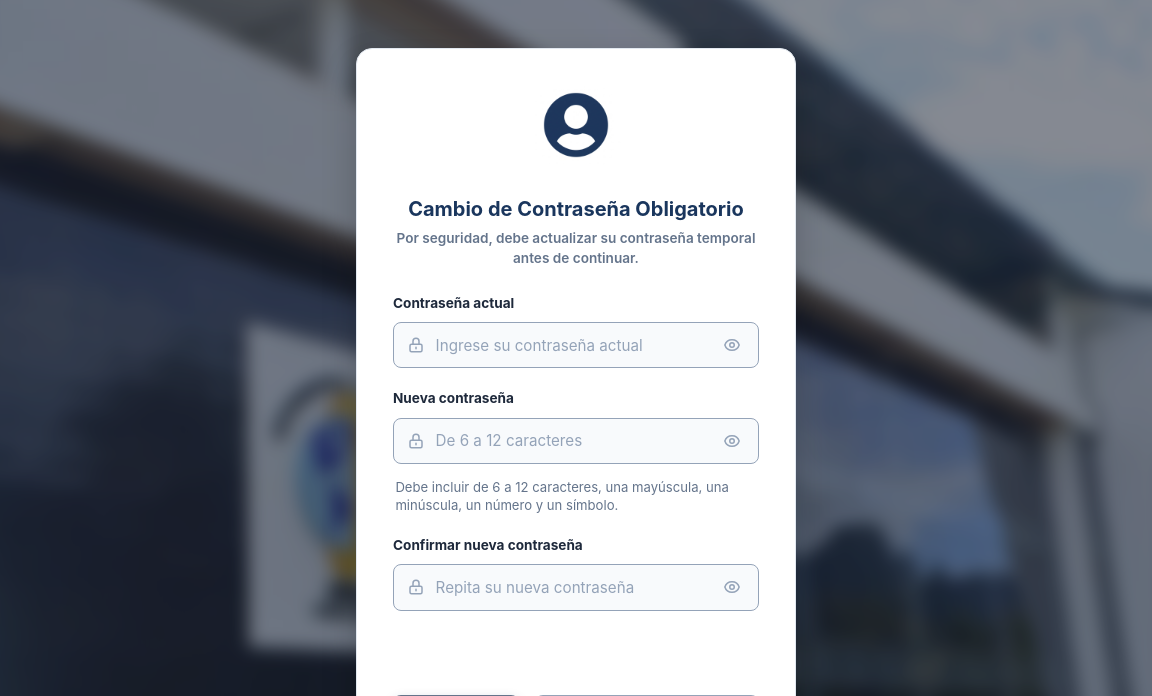
Test: ChangePasswordPage › muestra error de validacion si la nueva contraseña no cumple reglas
Type "Old123!" into the password field labelled "Contraseña actual" at (576, 345), box [393, 322, 759, 368]
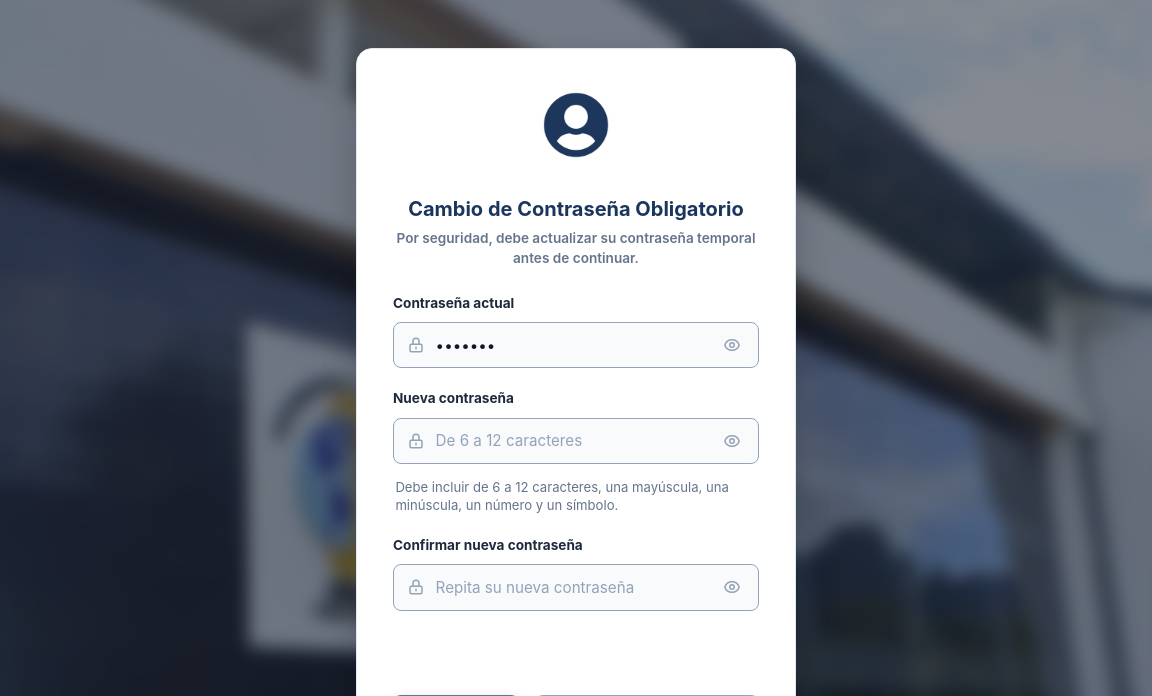
Type "New12345" into the password field labelled "Nueva contraseña" at (576, 441), box [393, 418, 759, 464]
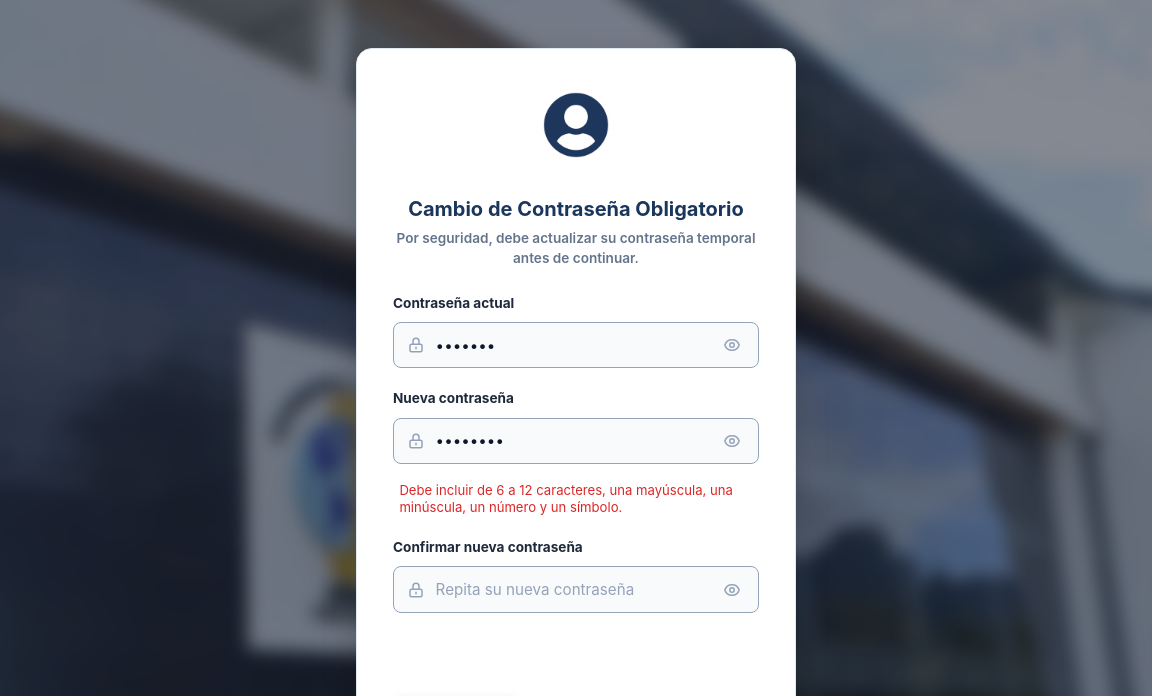
Type "New12345" into the password field labelled "Confirmar nueva contraseña" at (576, 590), box [393, 566, 759, 613]
(page scrolled)
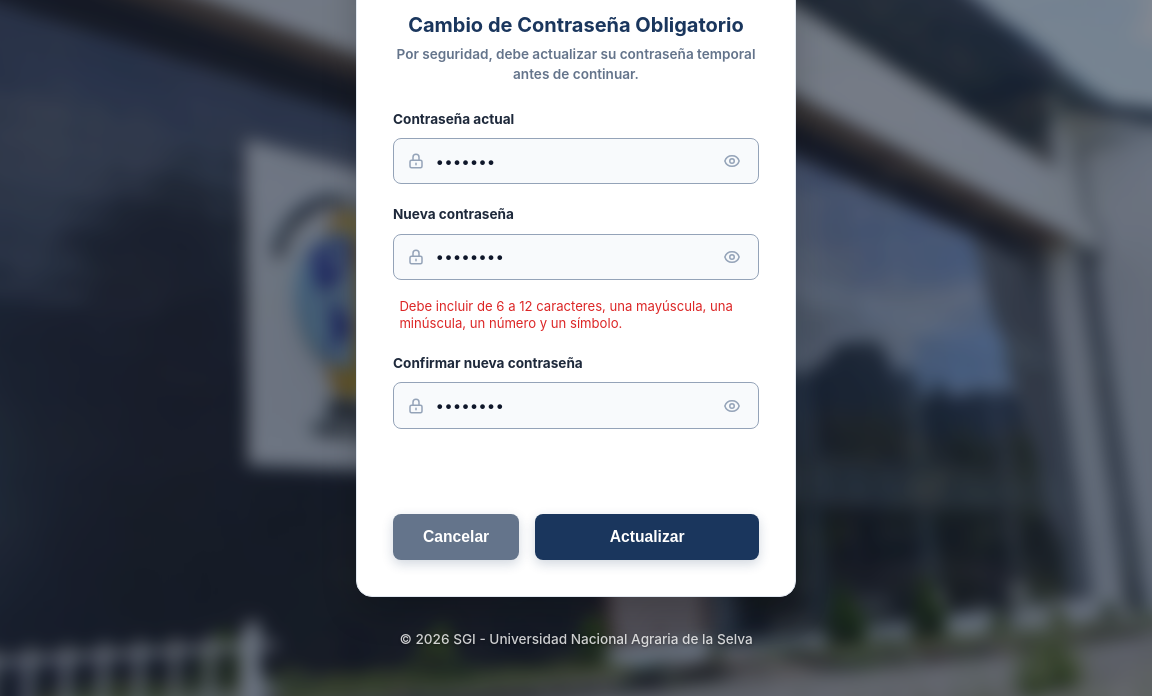
Click the submit button at (647, 537), box [535, 514, 759, 560]
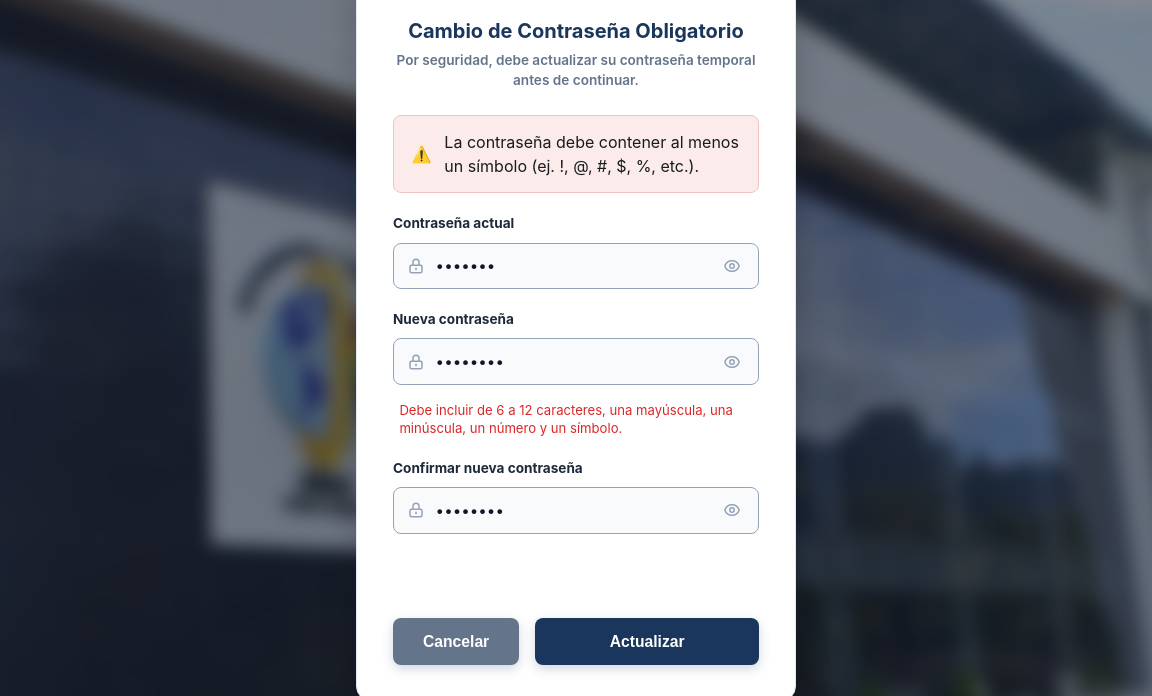
Expected: the message "⚠️ La contraseña debe contener al menos un símbolo (ej. !, @, #, $, %, etc.)." is shown, [393, 115, 759, 193]
